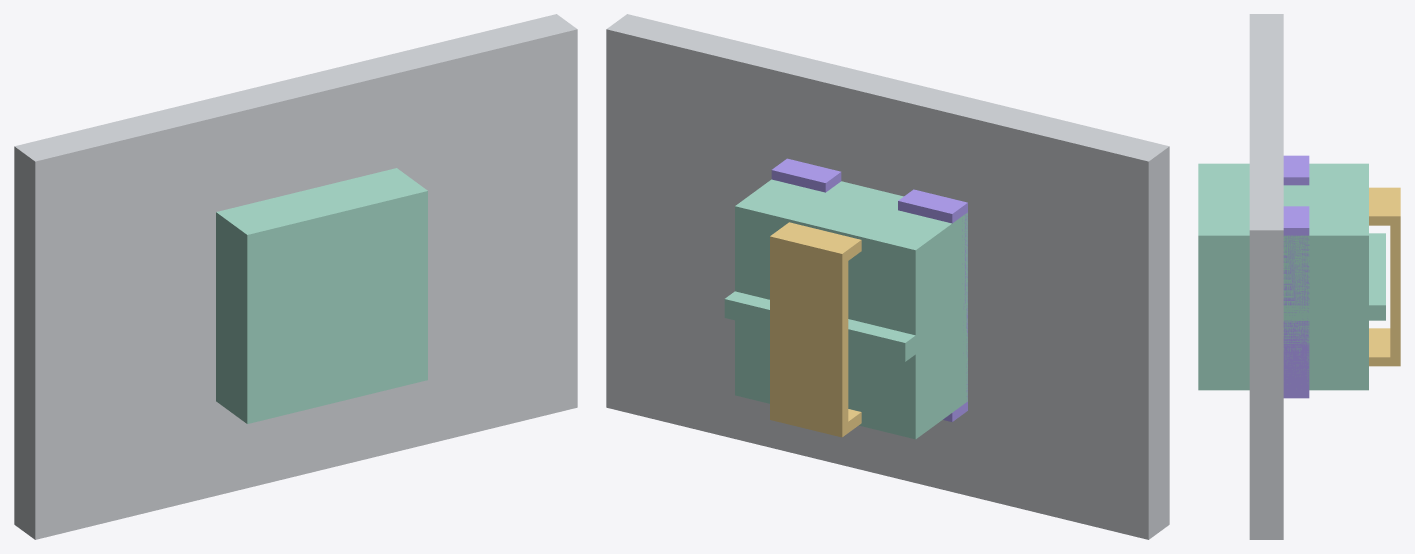
Rendered from FinFET.glb.
3 views of the same model, side by side, from view 1: azimuth 30°, elevation 25°; view 2: azimuth 150°, elevation 25°; view 3: azimuth 270°, elevation 25° (orthographic). The views are drawn at different scales.
Visible parts, largest first — view 1: Si_Substrate, Fin_01; view 2: Si_Substrate, Fin_01, Gate_U, Fin_03, SourceBus, DrainBus; view 3: Fin_01, Si_Substrate, DrainBus, Gate_U, Fin_03, SourceBus.
Boxes of the visible parts, box(x1,y1,x2,y2) form: Si_Substrate: box(14, 14, 577, 539); Fin_01: box(216, 168, 427, 423); Si_Substrate: box(606, 14, 1169, 539); Fin_01: box(735, 179, 967, 439); Gate_U: box(770, 222, 861, 437); Fin_03: box(724, 291, 963, 361); SourceBus: box(898, 189, 967, 421); DrainBus: box(771, 158, 841, 192); Fin_01: box(1198, 163, 1368, 390); Si_Substrate: box(1249, 14, 1283, 539); DrainBus: box(1283, 206, 1309, 398); Gate_U: box(1369, 187, 1400, 366); Fin_03: box(1283, 233, 1385, 320); SourceBus: box(1283, 155, 1309, 185).
Bounding box in the file's own units: 6 × 4 × 2.37.
